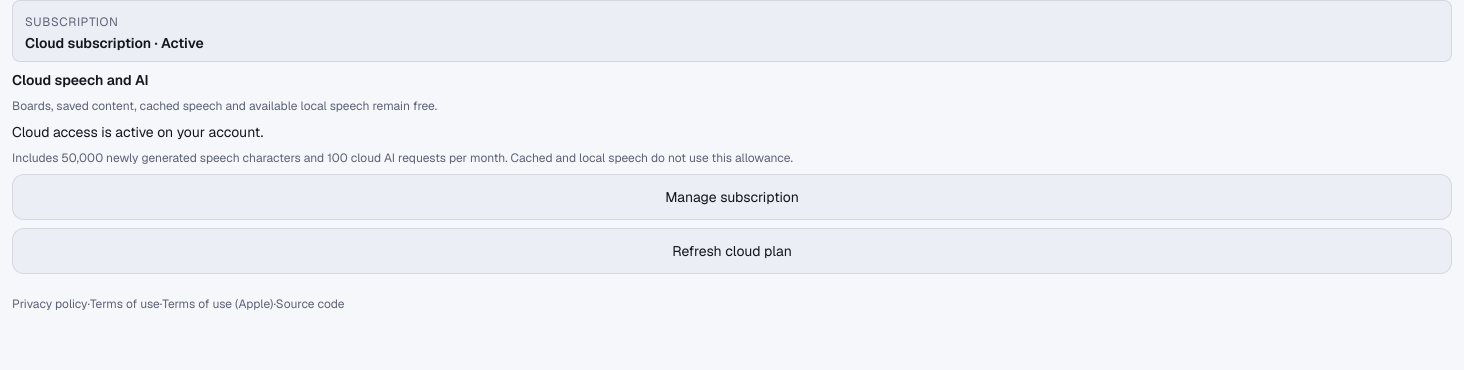
it: cloud plan funnel telemetry › does not count a manage handoff that failed
Click the button "Manage subscription": (732, 197) left=12, top=174, right=1452, bottom=220
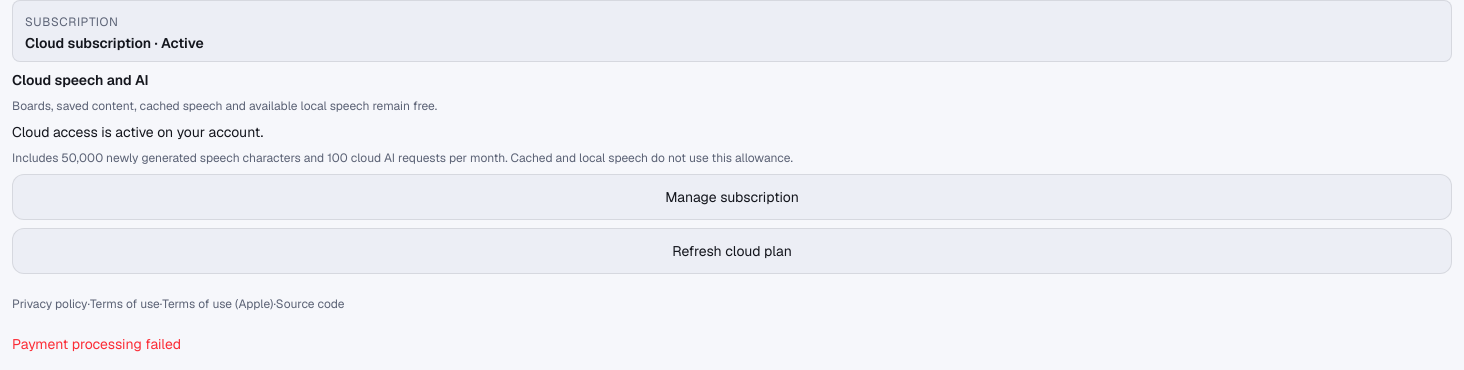
Check: the text "Payment processing failed" is shown, box left=12, top=335, right=181, bottom=353
